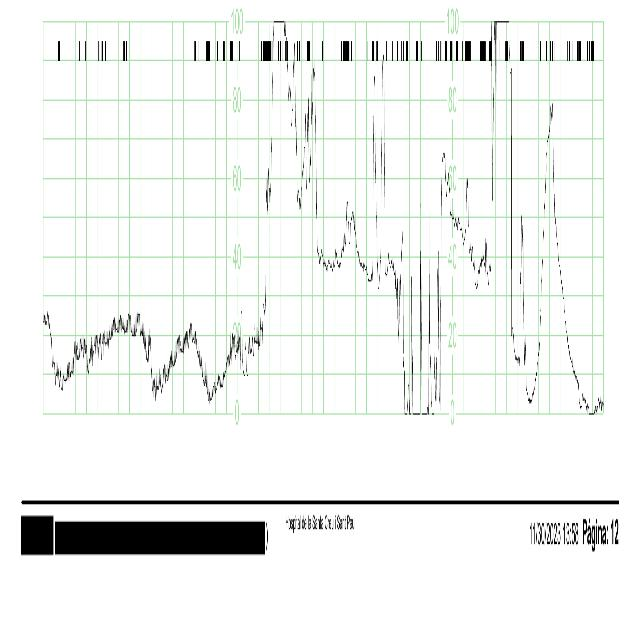contraction: (264, 18, 298, 344), (487, 29, 516, 289), (535, 102, 561, 384), (440, 160, 454, 417), (301, 54, 319, 214), (378, 58, 389, 286), (370, 71, 378, 278), (518, 230, 526, 372), (418, 214, 422, 413), (408, 286, 413, 419), (428, 208, 431, 419), (435, 266, 438, 406)
